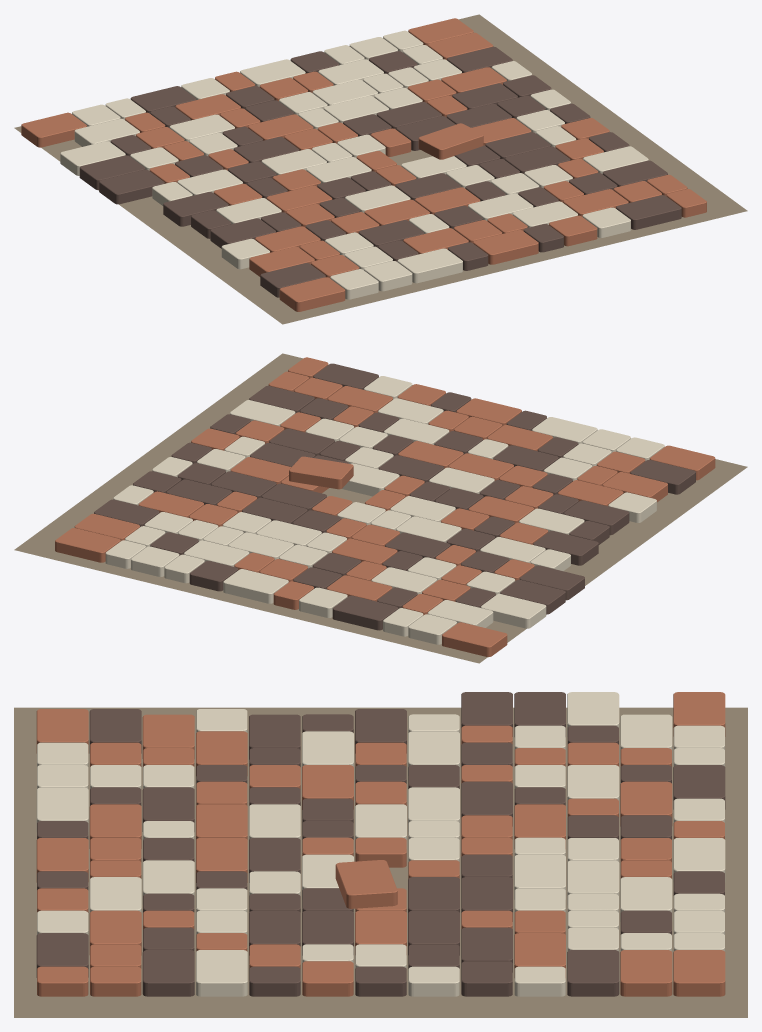
Rendered from terilgan.glb.
The picture shows the model from 3 angles, top to bottom: view 1: azimuth 30°, elevation 25°; view 2: azimuth 150°, elevation 25°; view 3: azimuth 270°, elevation 25°; orthographic projection. The views are drawn at different scales.
Visible parts, largest first — view 1: qum, t, t.072, t.088, t.135, t.003, t.009, t.005, t.066, t.100, t.011, t.112 (+93 smaller); view 2: qum, t.135, t.072, t.112, t.146, t.138, t.141, t.066, t.011, t.044, t, t.088 (+92 smaller); view 3: qum, t.072, t.134, t.032, t.123, t.146, t.043, t.019, t.127, t.065, t.099, t.107 (+135 smaller).
Part boxes in pixels (left/top/right/bottom): qum: left=14, top=14, right=747, bottom=324; t: left=279, top=277, right=345, bottom=311; t.072: left=418, top=123, right=483, bottom=159; t.088: left=99, top=169, right=164, bottom=204; t.135: left=21, top=112, right=86, bottom=147; t.003: left=397, top=248, right=462, bottom=283; t.009: left=616, top=195, right=681, bottom=229; t.005: left=473, top=230, right=538, bottom=264; t.066: left=163, top=192, right=228, bottom=226; t.100: left=79, top=155, right=145, bottom=190; t.011: left=260, top=263, right=325, bottom=297; t.112: left=60, top=141, right=125, bottom=175; qum: left=14, top=353, right=747, bottom=663; t.135: left=442, top=622, right=507, bottom=657; t.072: left=289, top=456, right=353, bottom=489; t.112: left=480, top=594, right=546, bottom=628; t.146: left=55, top=528, right=120, bottom=562; t.138: left=332, top=595, right=397, bottom=630; t.141: left=223, top=569, right=288, bottom=603; t.066: left=533, top=531, right=598, bottom=565; t.011: left=630, top=460, right=695, bottom=494; t.044: left=563, top=500, right=629, bottom=535; t: left=649, top=445, right=715, bottom=480; t.088: left=519, top=565, right=584, bottom=600; qum: left=14, top=707, right=747, bottom=1017; t.072: left=335, top=860, right=397, bottom=908; t.134: left=620, top=950, right=672, bottom=996; t.032: left=142, top=950, right=194, bottom=996; t.123: left=567, top=950, right=619, bottom=996; t.146: left=673, top=950, right=725, bottom=996; t.043: left=196, top=950, right=247, bottom=996; t.019: left=89, top=910, right=141, bottom=955; t.127: left=620, top=781, right=672, bottom=826; t.065: left=302, top=961, right=353, bottom=996; t.099: left=461, top=961, right=512, bottom=996; t.107: left=514, top=854, right=565, bottom=899.
Size of the model in its own units: 1.67 by 0.072 by 1.66.
